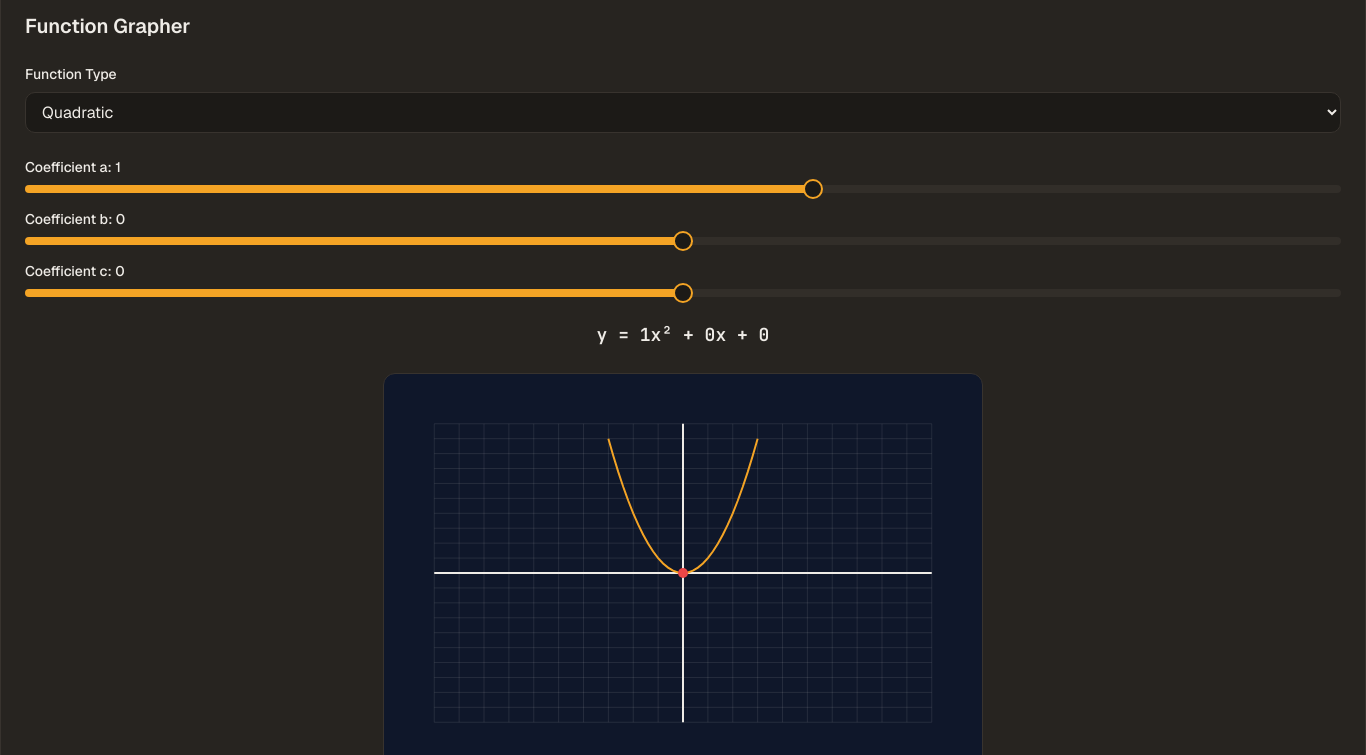
it: FunctionGrapher › displays amplitude and period for trigonometric function
Select "Trigonometric" in the dropdown labelled "Function Type" at (683, 112), box [25, 92, 1341, 133]
(page scrolled)
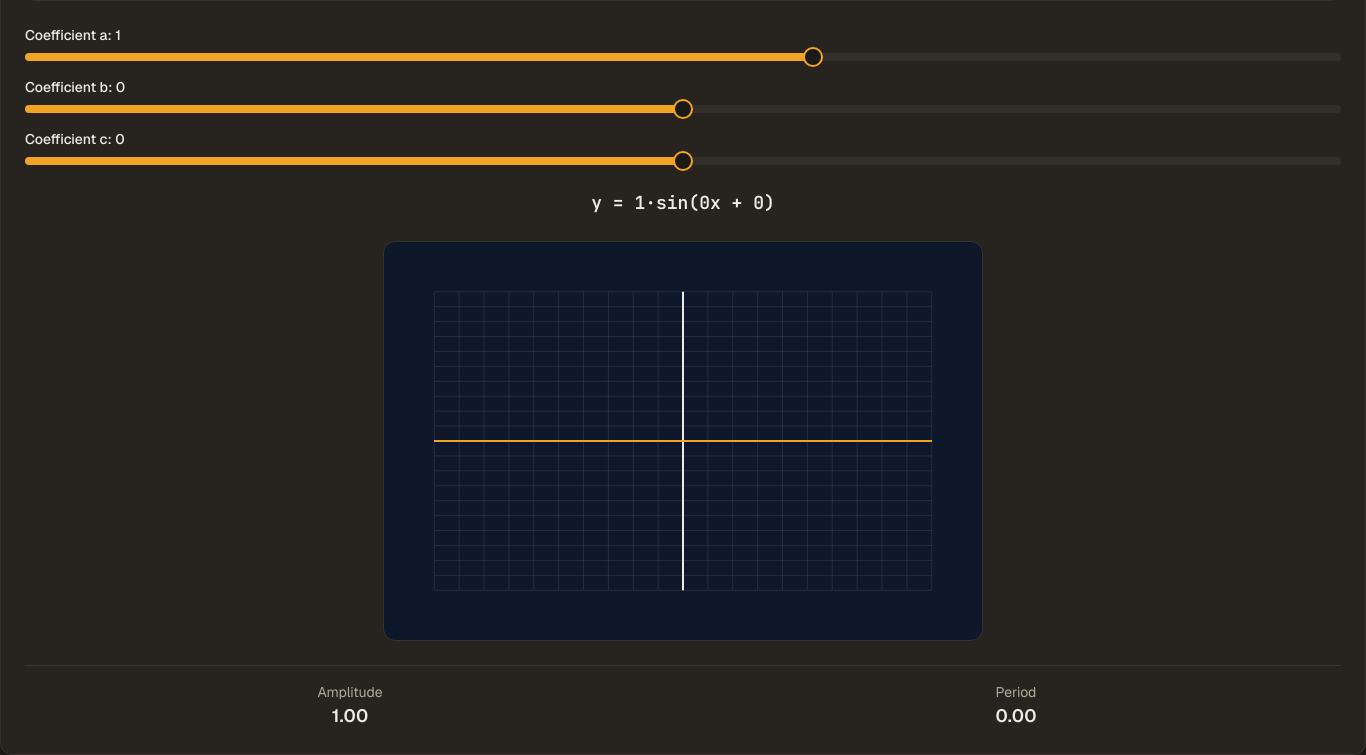
Check: the text "Amplitude" is shown, box [317, 683, 383, 701]
Check: the text "Period" is shown, box [996, 683, 1036, 701]
